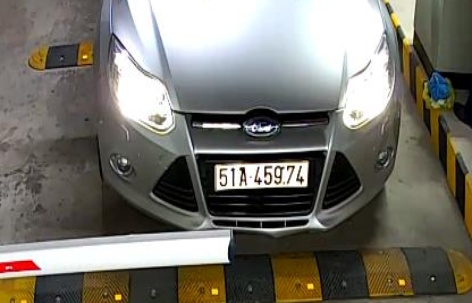plate: (212, 160, 312, 191)
